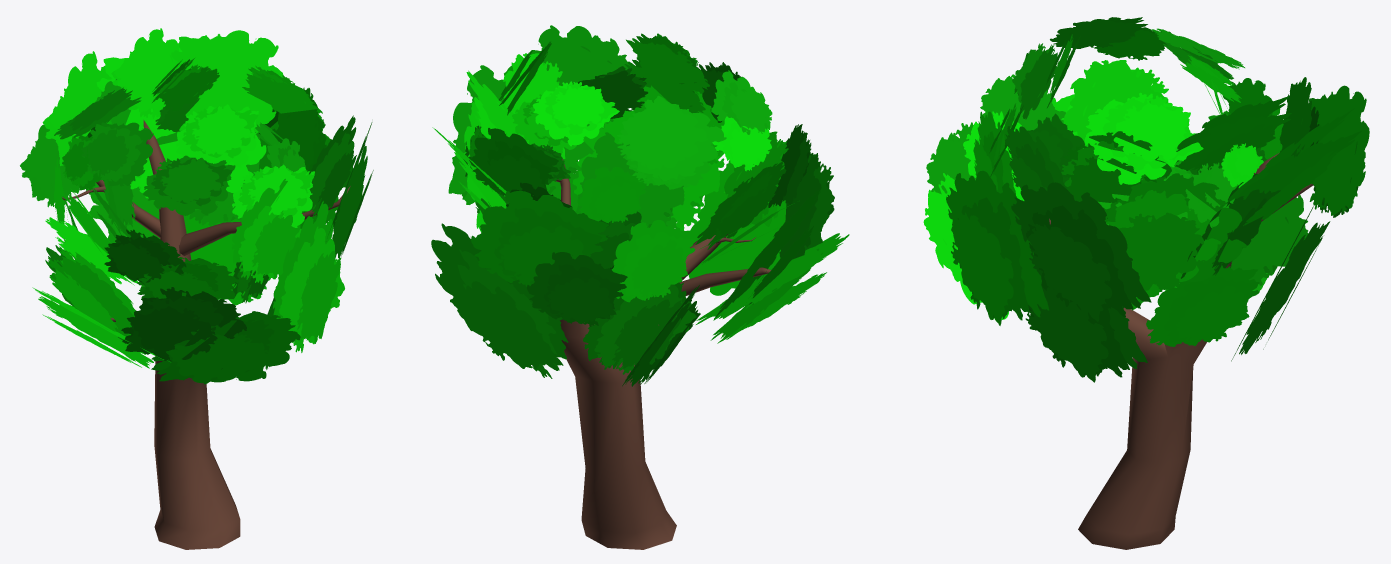
File: Tree1_Leaf_Type1.fbx
The picture shows the model from 3 angles, left to right: view 1: azimuth 30°, elevation 25°; view 2: azimuth 150°, elevation 25°; view 3: azimuth 270°, elevation 25°; orthographic projection. The views are drawn at different scales.
Visible parts, largest first — view 1: LeafClump, Tree1Export; view 2: LeafClump, Tree1Export; view 3: LeafClump, Tree1Export.
Boxes of the visible parts, x1,y1,x2,y2 form: LeafClump: (20,28,373,384); Tree1Export: (62,120,350,549); LeafClump: (431,25,849,386); Tree1Export: (556,159,771,549); LeafClump: (923,17,1369,382); Tree1Export: (1049,153,1313,549).
Size of the model in its own units: 14.77 by 17.21 by 14.81.
